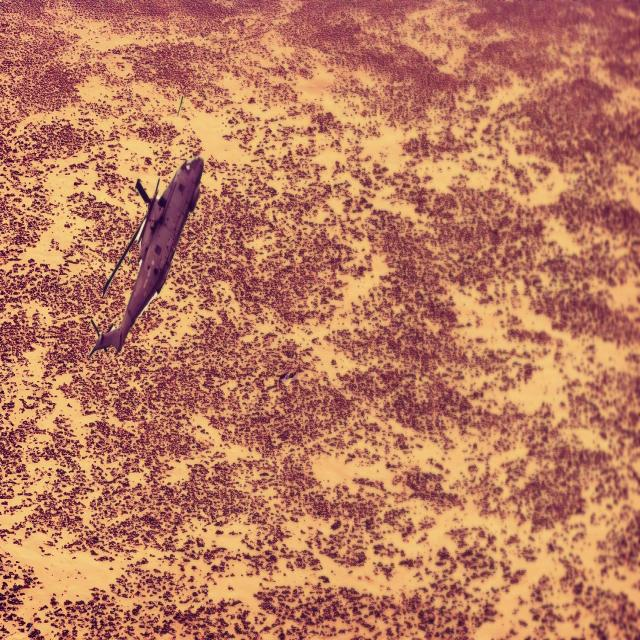airplane: (88, 154, 204, 358)
